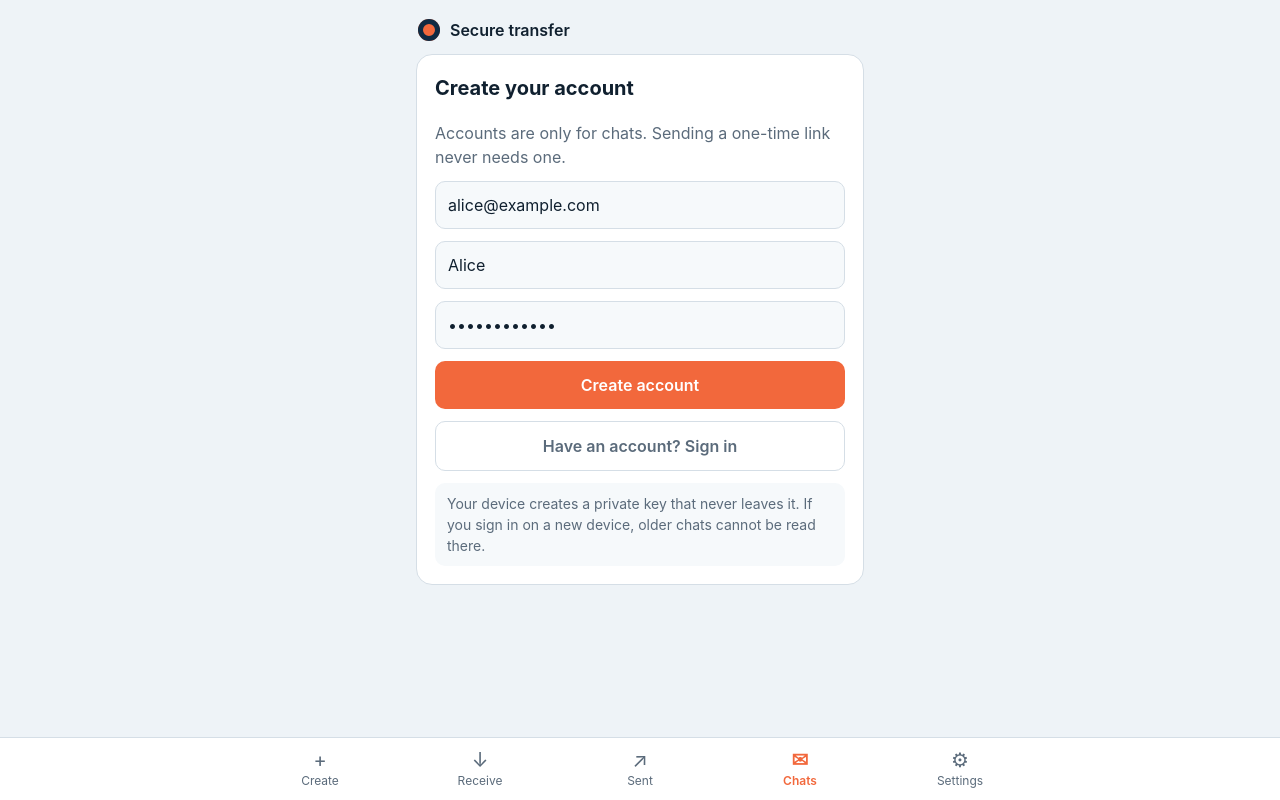
Test: Phase 2 screens, driven like a user › sign up, start a chat, exchange encrypted burn-after-reading messages, verify, sign out
Earlier steps of the test are not shown.
Later steps or results of the test are not shown.
Click the button "Create account" at (640, 385), box [435,361,845,409]
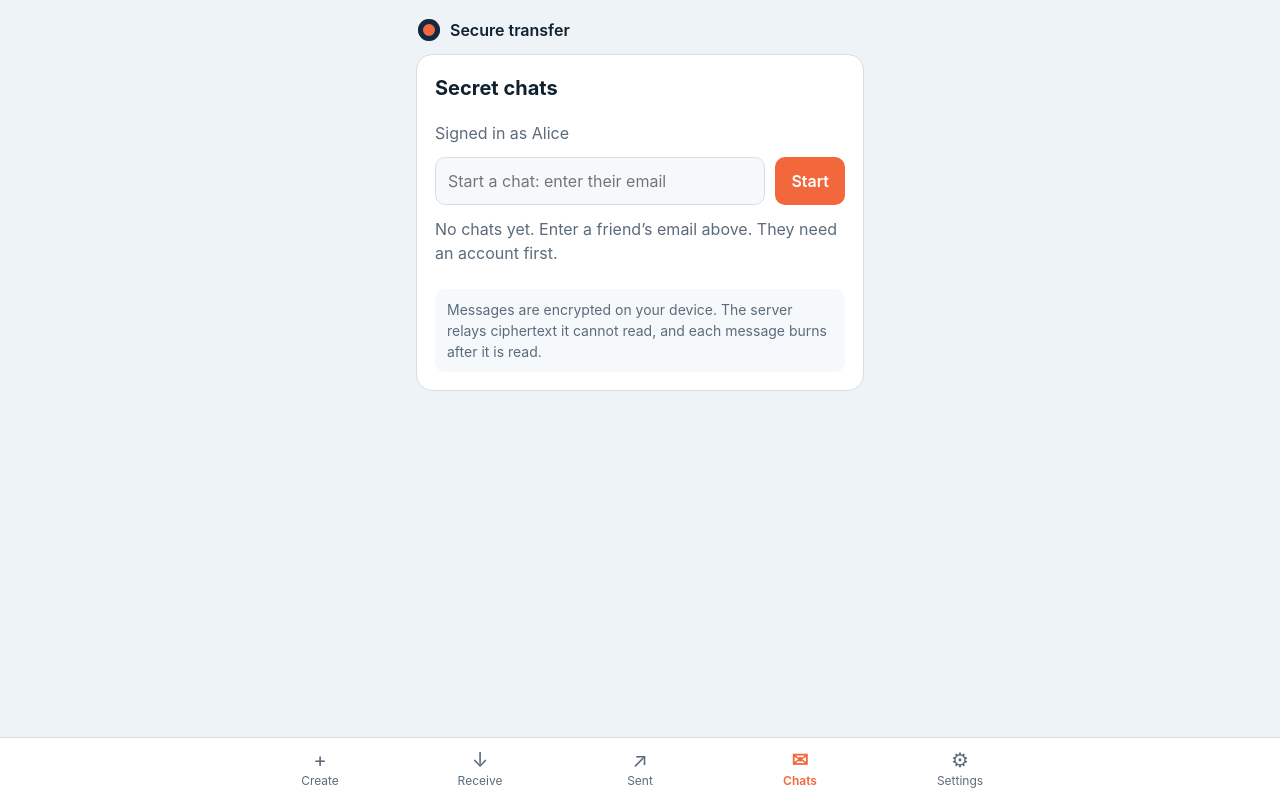
Expected: the heading "Secret chats" is shown, [435,76,558,100]
Expected: the text "No chats yet" is shown, [435,219,837,263]
Type "nobody@example.com" into the field named "Email of the person to chat with" at (600, 181), box [435,157,765,205]
Click the button "Start" at (810, 181), box [775,157,845,205]
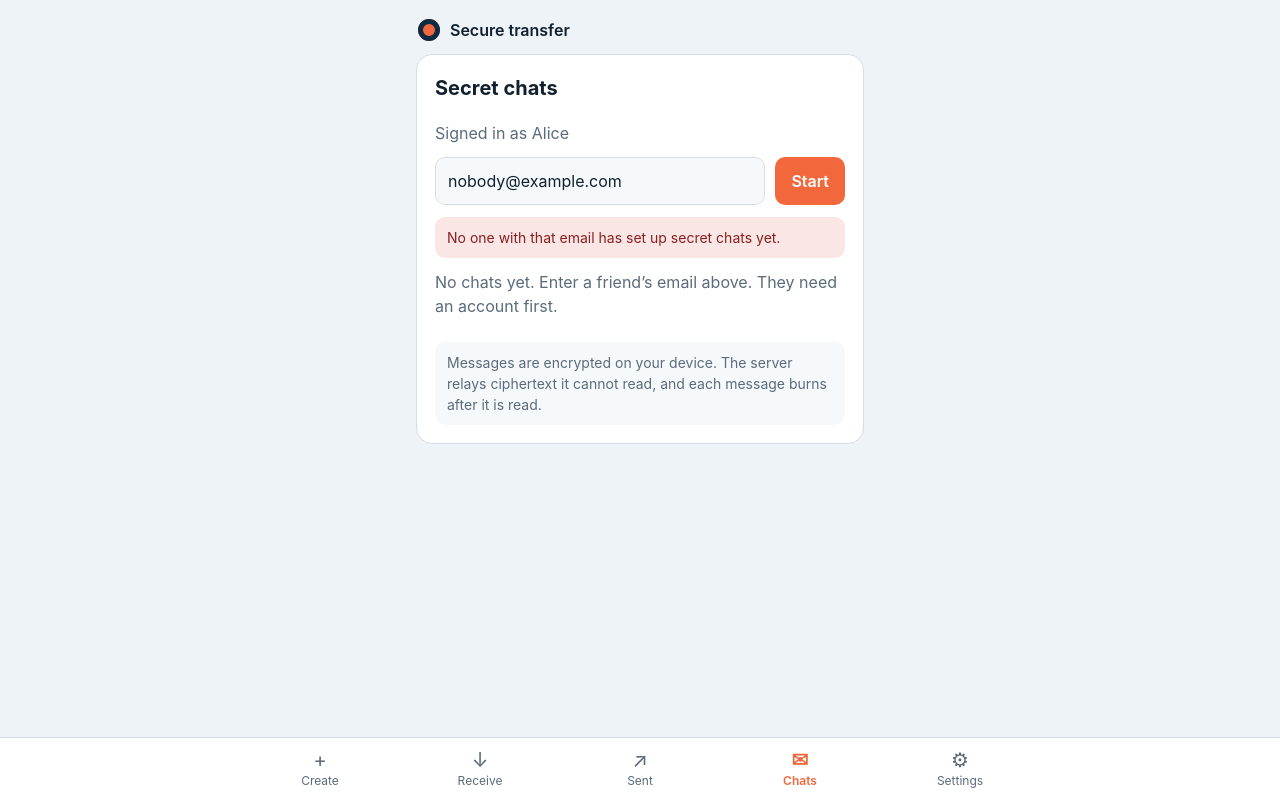
Expected: the text "No one with that email has set up secret chats yet." is shown, [435,217,845,258]
Replace the text in the field named "Email of the person to chat with" with "bob@example.com" at (600, 181), box [435,157,765,205]
Click the button "Start" at (810, 181), box [775,157,845,205]
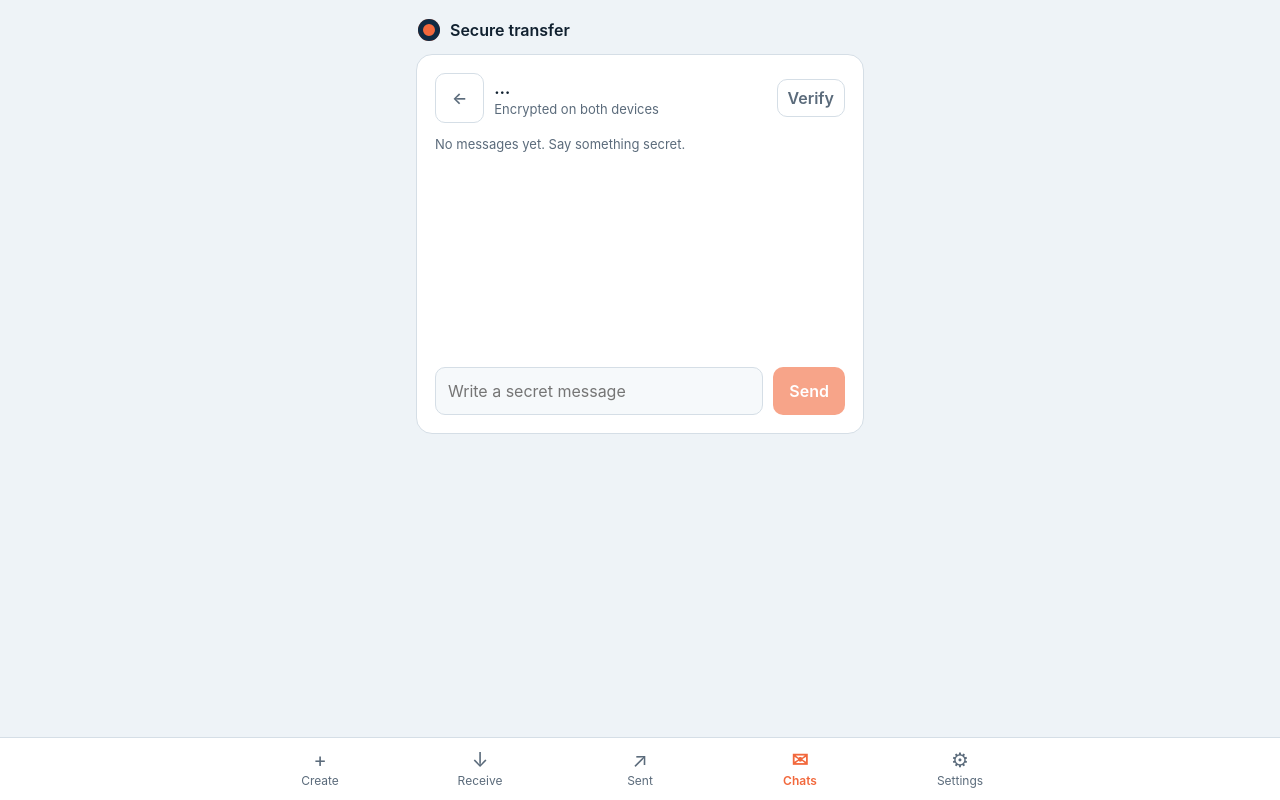
Expected: the text "Encrypted on both devices" is shown, [494,101,659,117]
Type "hello bob, the code is 4821" into the field labelled "message" at (599, 391), box [435,367,763,415]
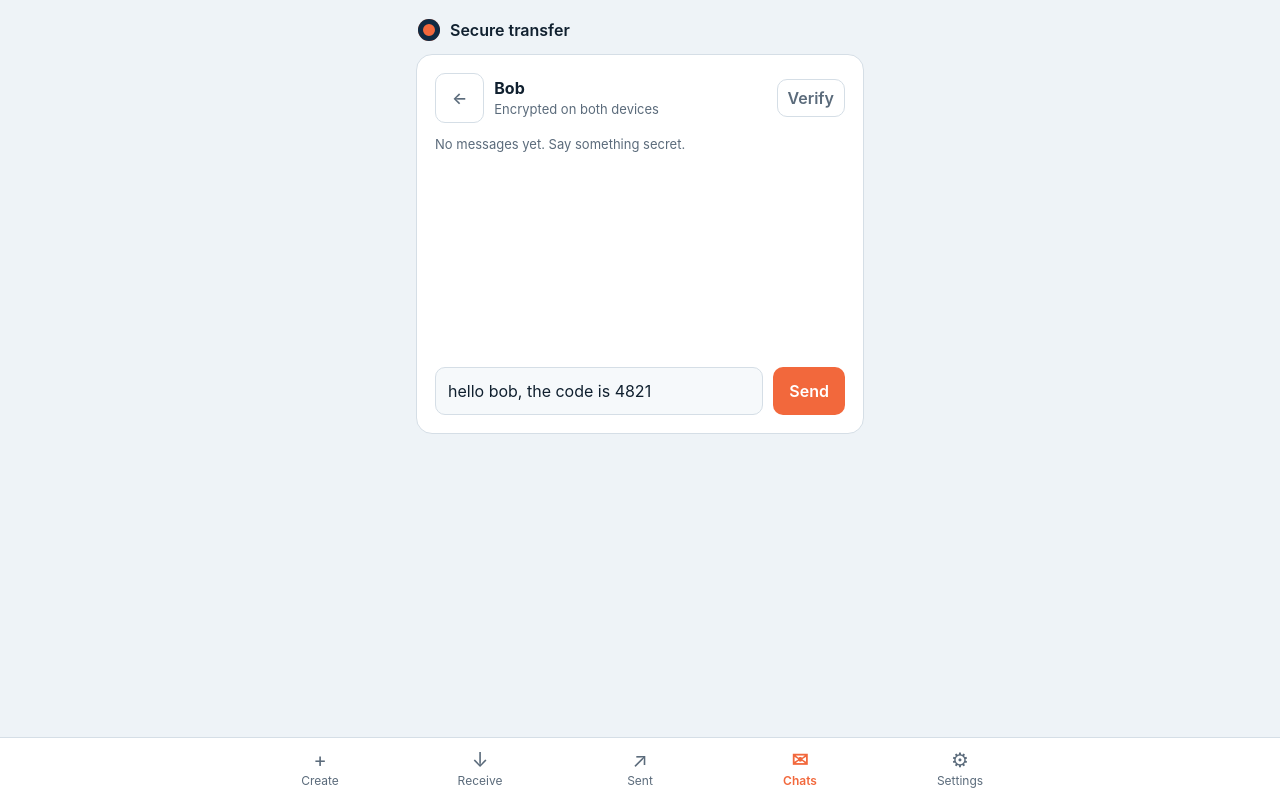
Expected: the button "Send" is enabled
Click the button "Send" at (809, 391), box [773,367,845,415]
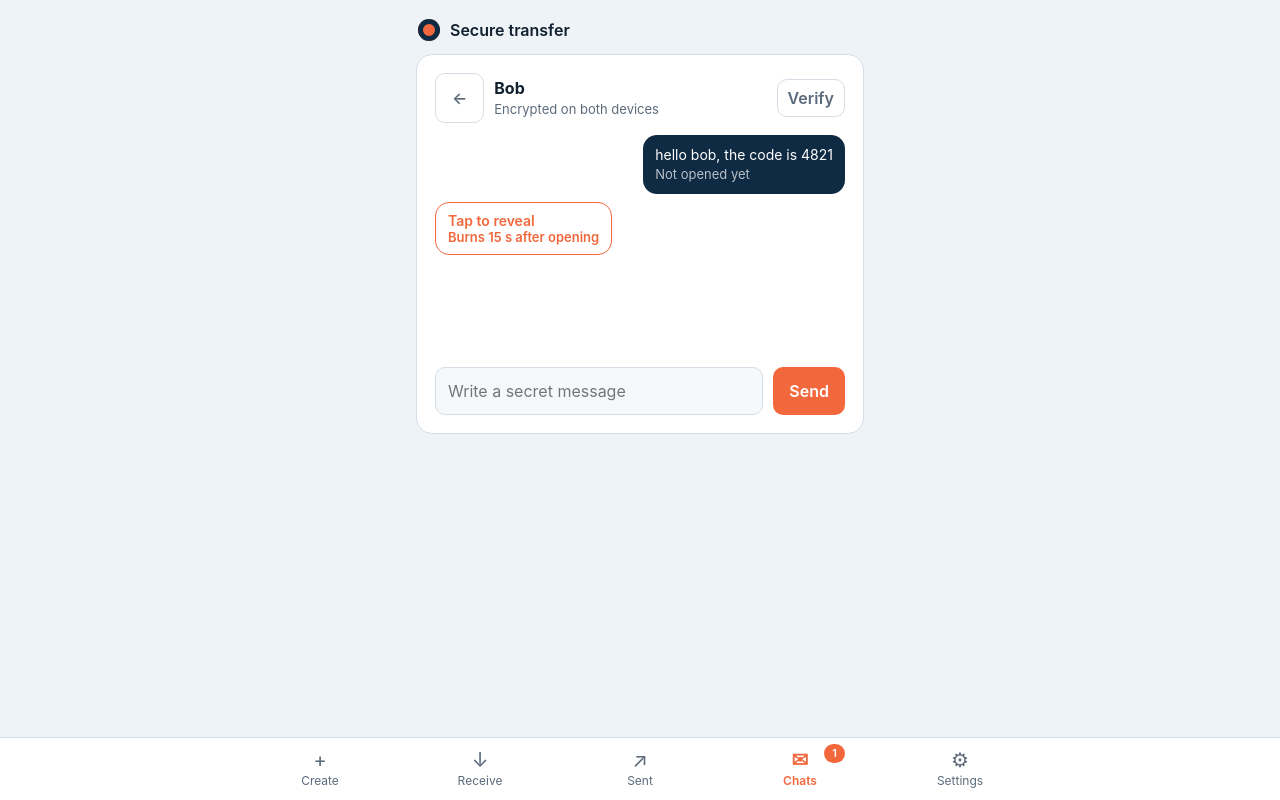
Expected: the text "server login: hunter2" is not shown
Expected: the text "hello bob, the code is 4821" is shown, [655,146,833,163]
Expected: the text "Not opened yet" is shown, [655,166,750,182]
Click the button "Tap to reveal Burns 15 s after opening" at (524, 228), box [435,202,612,254]
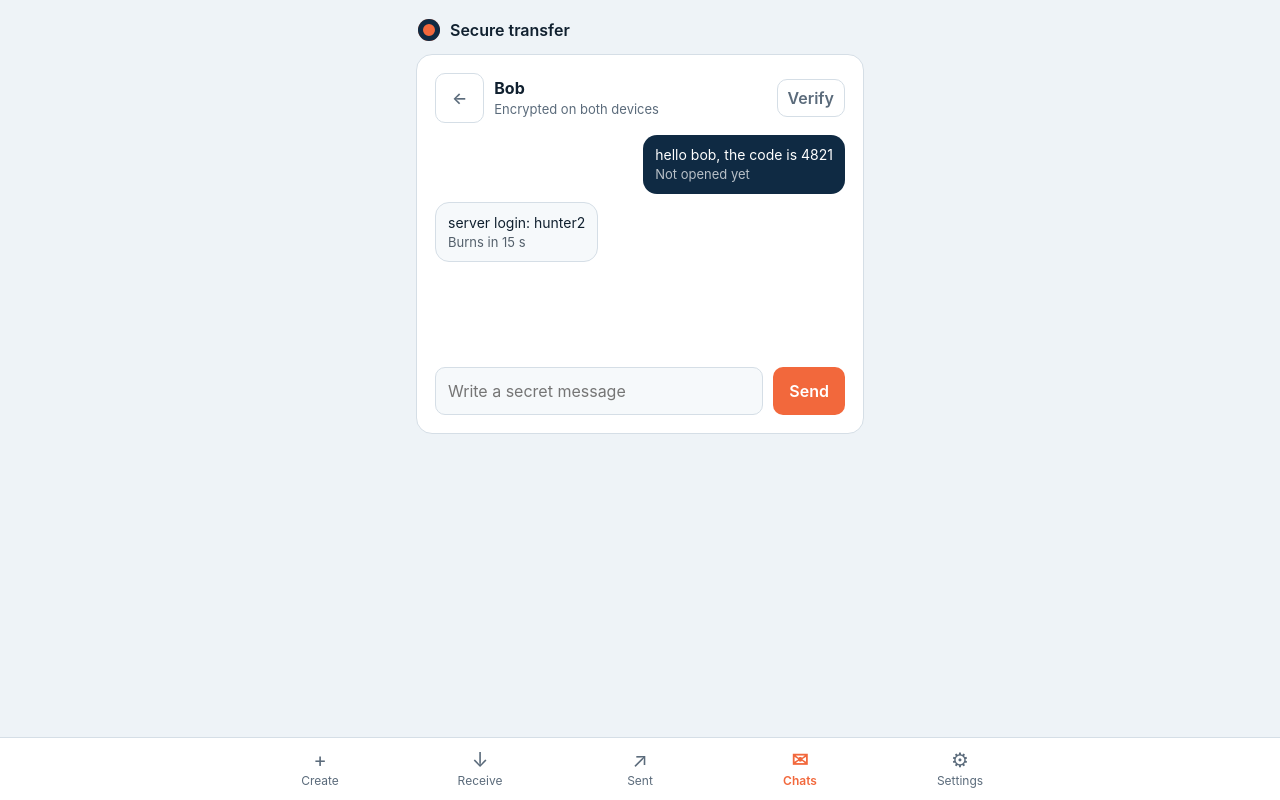
Expected: the text "server login: hunter2" is shown, [448,214,585,230]
Expected: the text "Burns in 15 s" is shown, [448,234,526,250]
